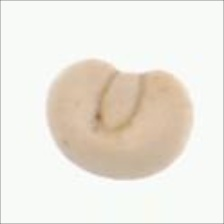L5: (43, 57, 194, 182), (93, 69, 147, 134), (69, 160, 137, 184)
